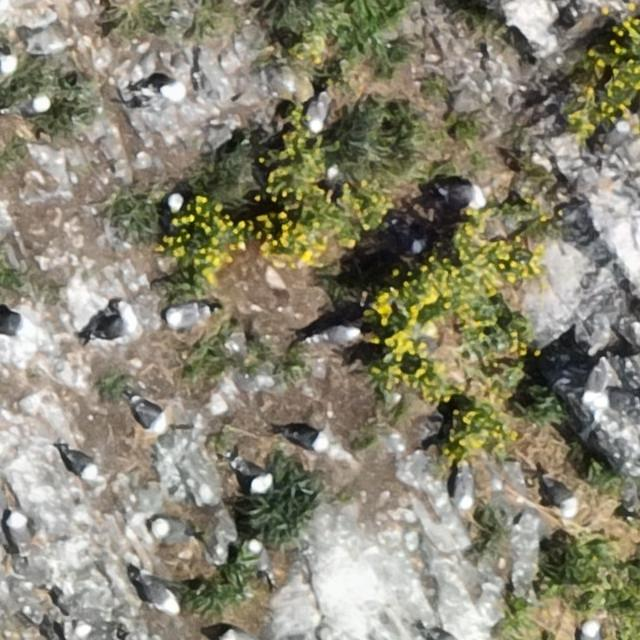umineko: (90, 298, 136, 339), (583, 360, 610, 404), (144, 578, 178, 612), (144, 76, 188, 102), (601, 118, 631, 155), (148, 518, 194, 542), (234, 462, 270, 491), (438, 183, 482, 205), (167, 304, 208, 327), (133, 401, 163, 432), (66, 448, 98, 477), (314, 325, 360, 344), (544, 478, 574, 507), (251, 542, 273, 579), (306, 95, 327, 132), (286, 430, 324, 450), (8, 512, 29, 548), (395, 226, 423, 253), (594, 392, 638, 408), (453, 471, 472, 508), (19, 95, 48, 114), (0, 312, 26, 333), (326, 167, 343, 194), (166, 192, 184, 213), (426, 628, 460, 639), (580, 621, 600, 639)
